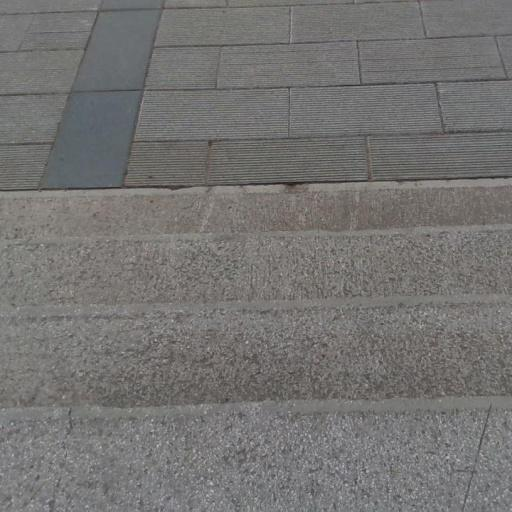stairs: (0, 180, 511, 510)
